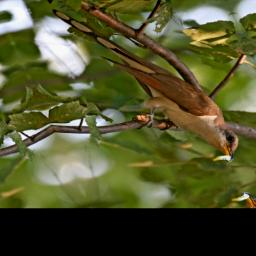Cuckoo: (49, 0, 250, 186)
